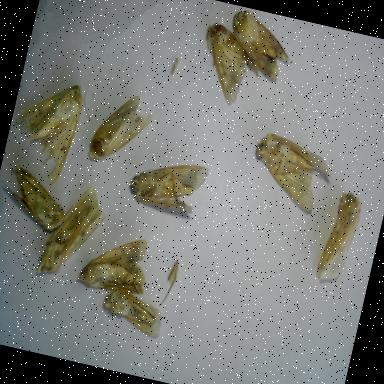abw: (0, 67, 91, 192), (32, 175, 116, 291), (185, 16, 282, 116), (242, 124, 340, 220), (120, 146, 214, 225), (84, 85, 160, 176), (218, 6, 302, 88), (72, 223, 158, 303), (310, 183, 372, 290), (0, 160, 75, 236), (94, 281, 172, 342)
